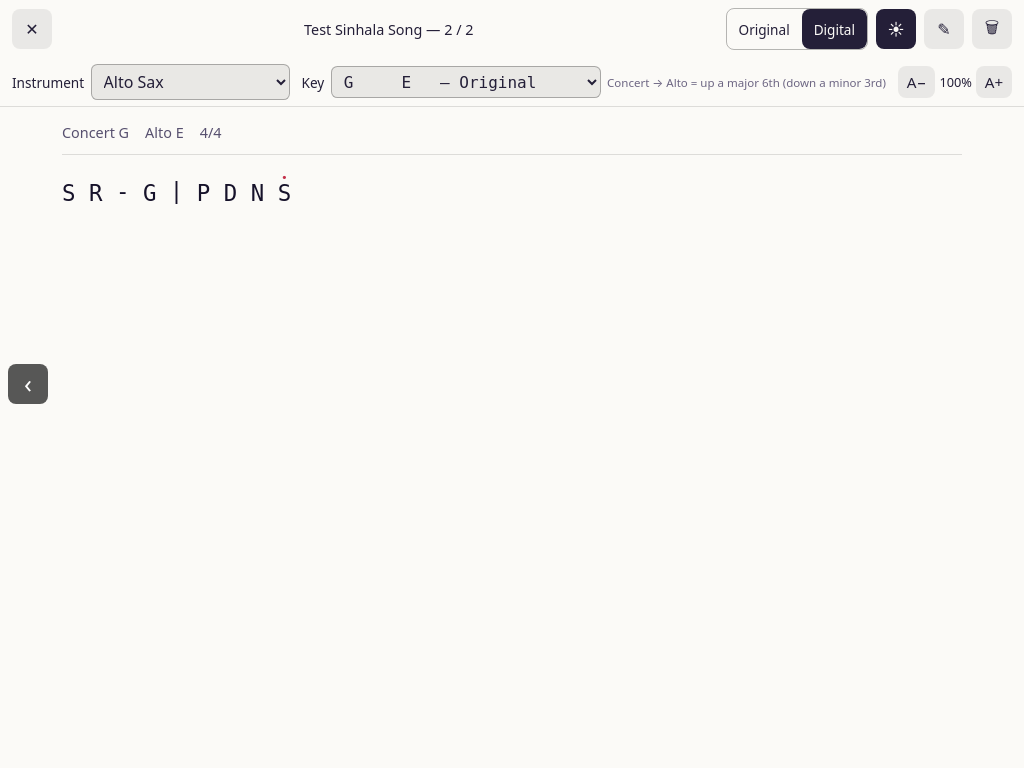
Test: App › restores a persisted day theme, and keeps it across a page change
Expected: the text "Concert G" is shown, [62,123,129,142]
Click the button named "Previous page" at (28, 384), box [8,364,48,404]
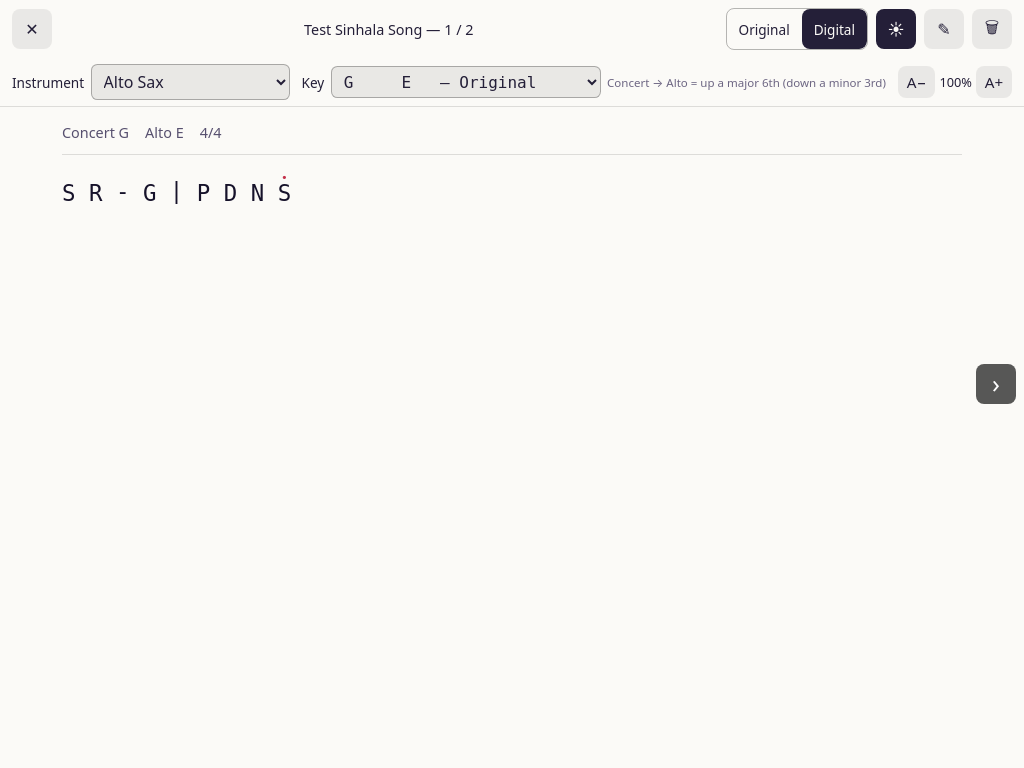
Now the text "Test Sinhala Song — 1 / 2" is shown, box [304,20,474,38]
